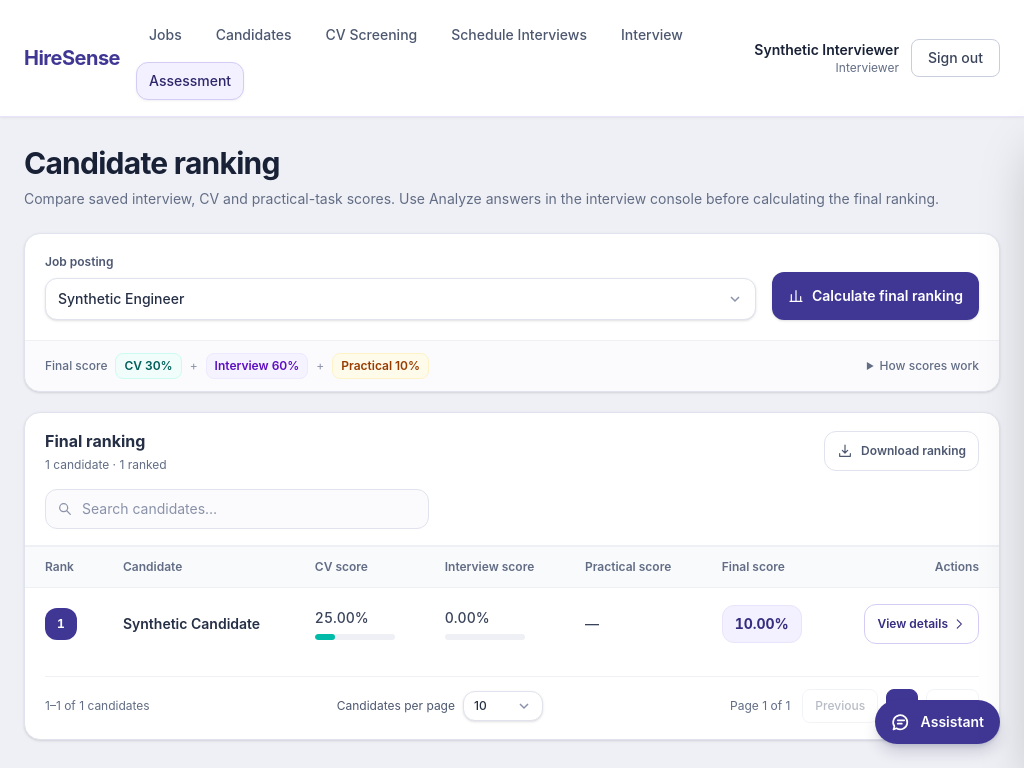
Test: offers an in-modal retry if candidate details fail to load
Click the button named "View details for Synthetic Candidate".
click(922, 624)  # box x1=864 y1=604 x2=979 y2=644
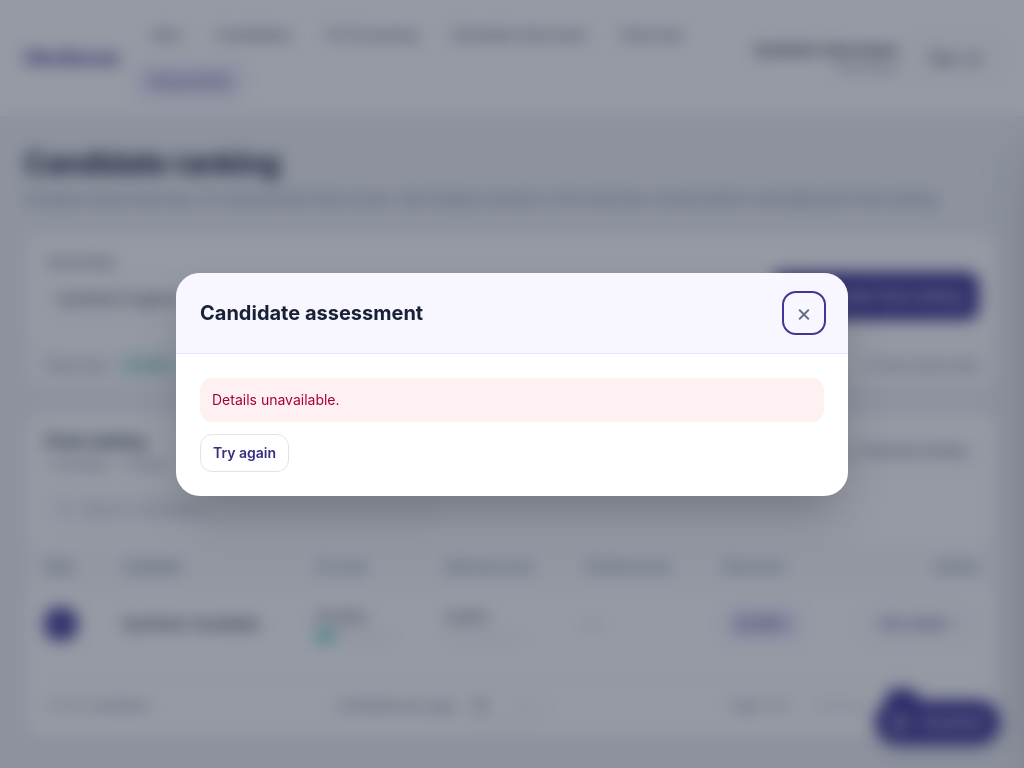
Expected: the message reads "Details unavailable.", x1=212 y1=390 x2=340 y2=408
Click the button "Try again".
click(245, 452)  # box x1=200 y1=434 x2=289 y2=472
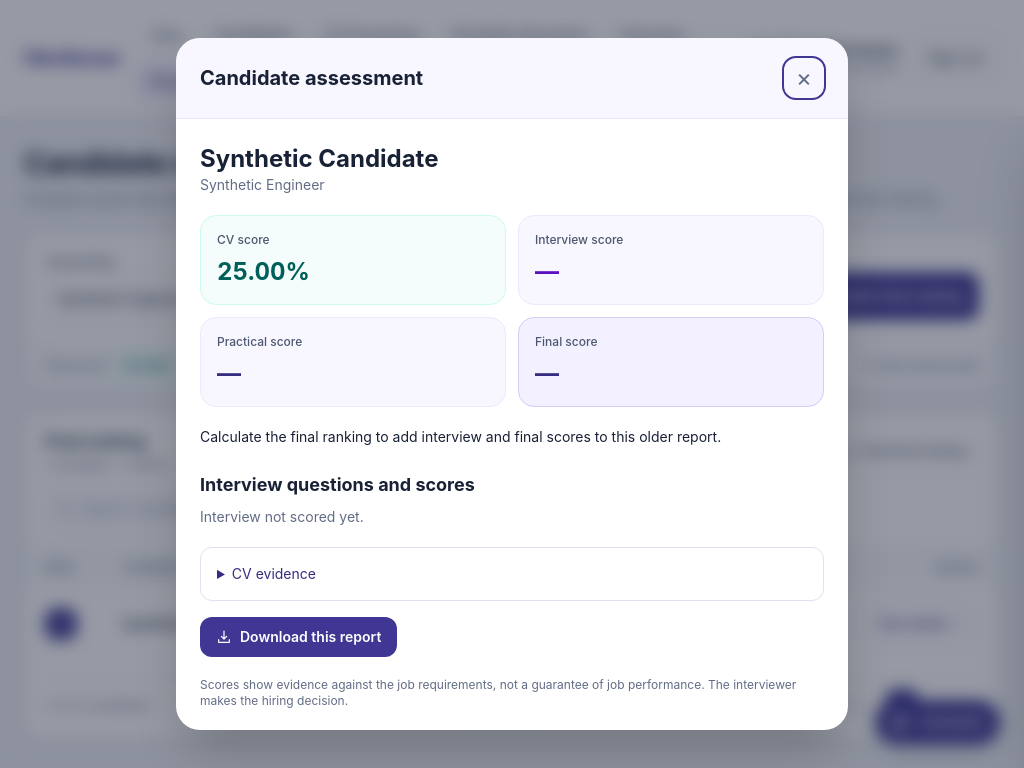
Expected: the element named "Consolidated candidate assessment" is shown, x1=200 y1=143 x2=824 y2=709
